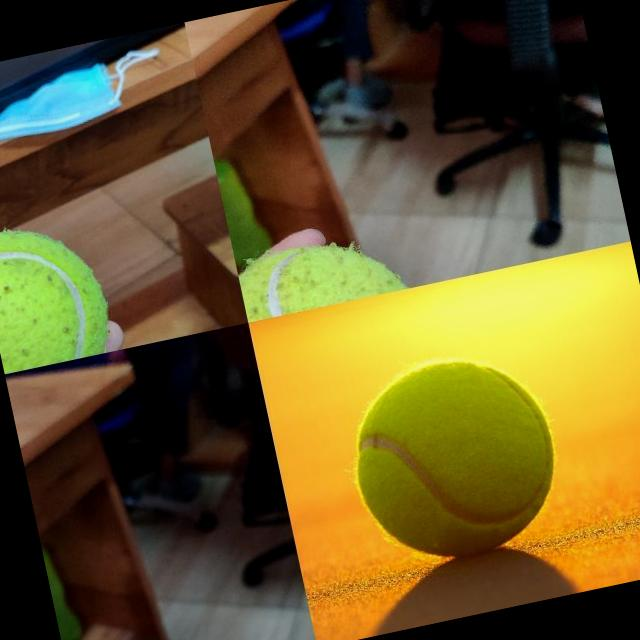tennis-ball: (334, 343, 570, 574), (0, 212, 116, 373)
